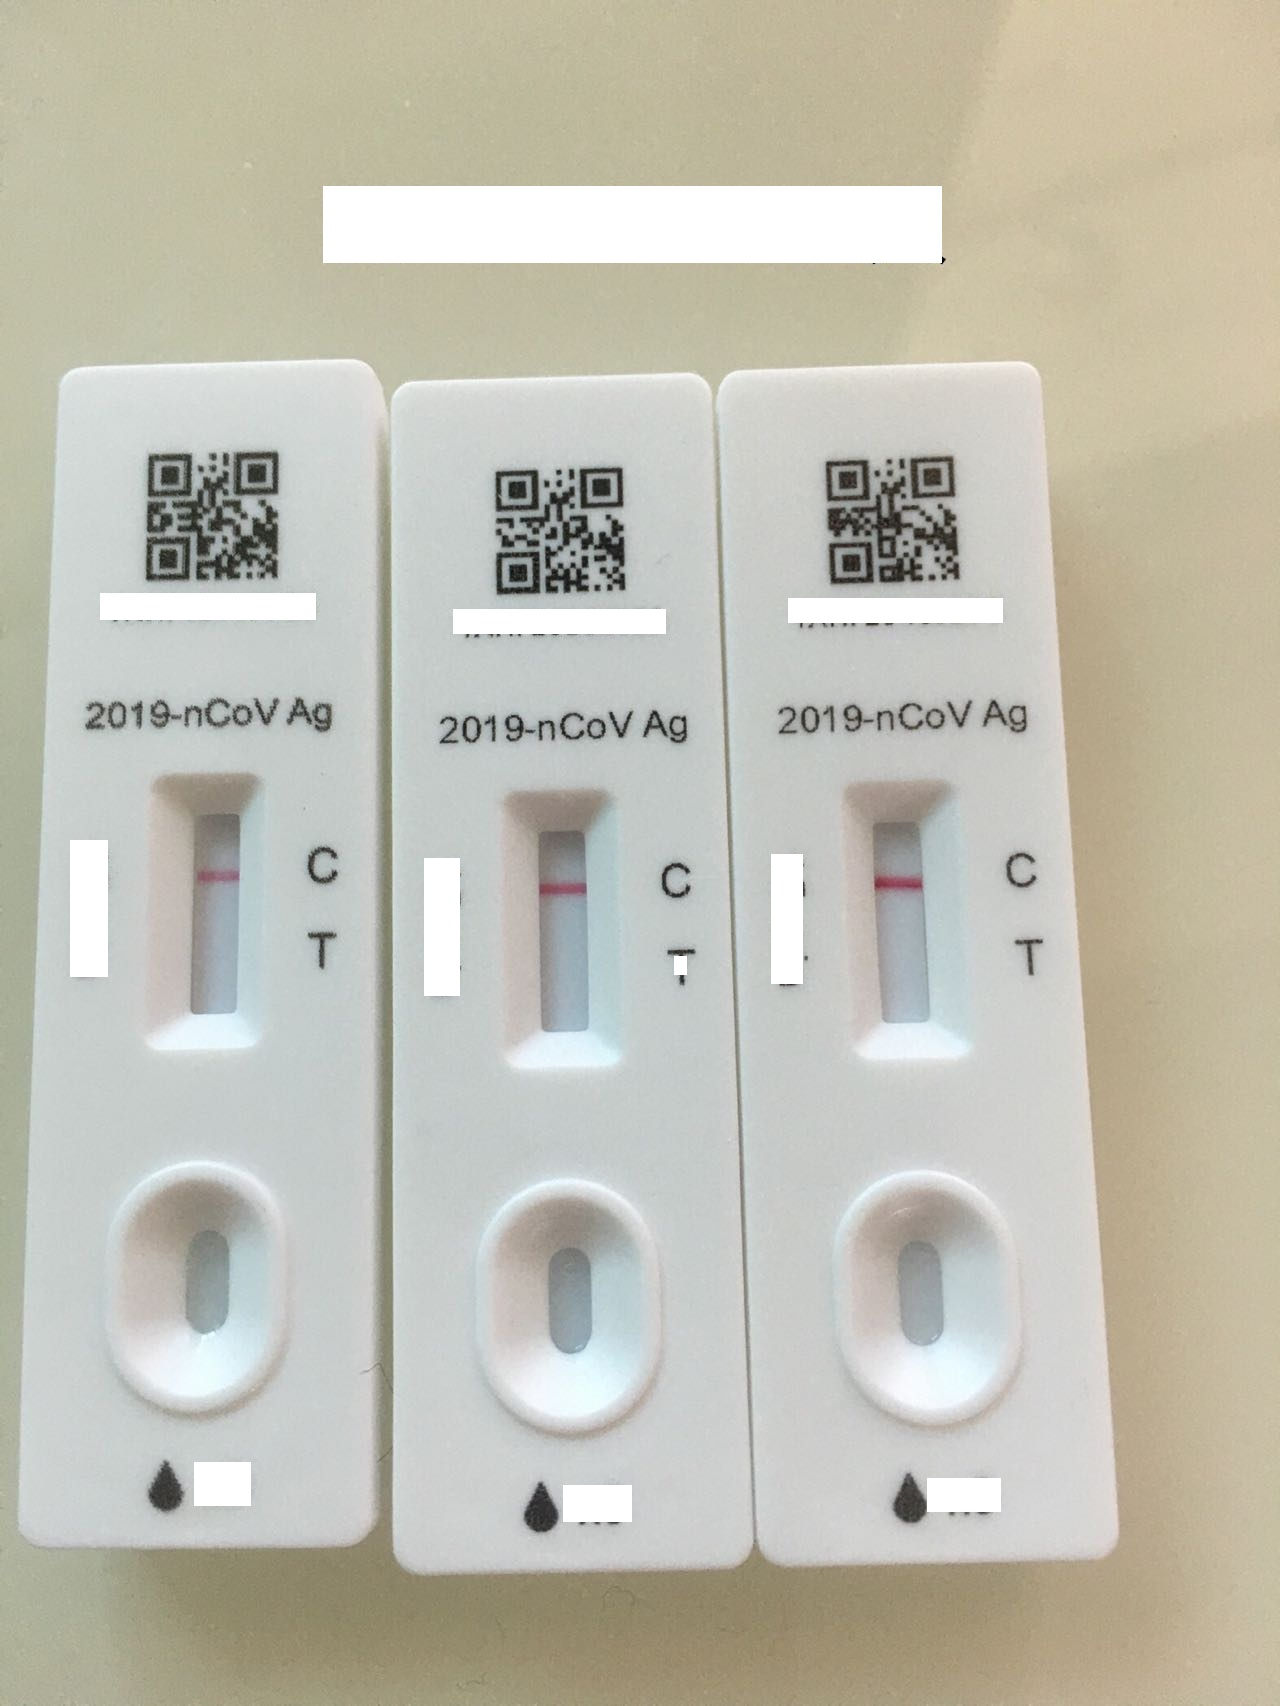negative: (148, 772, 264, 1049), (503, 788, 614, 1065), (850, 776, 960, 1053)
